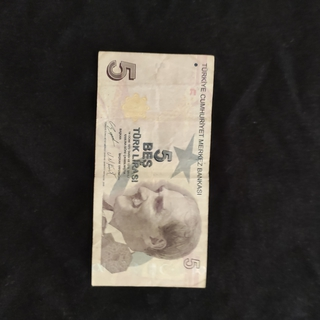5TLFront: (91, 50, 214, 288)
